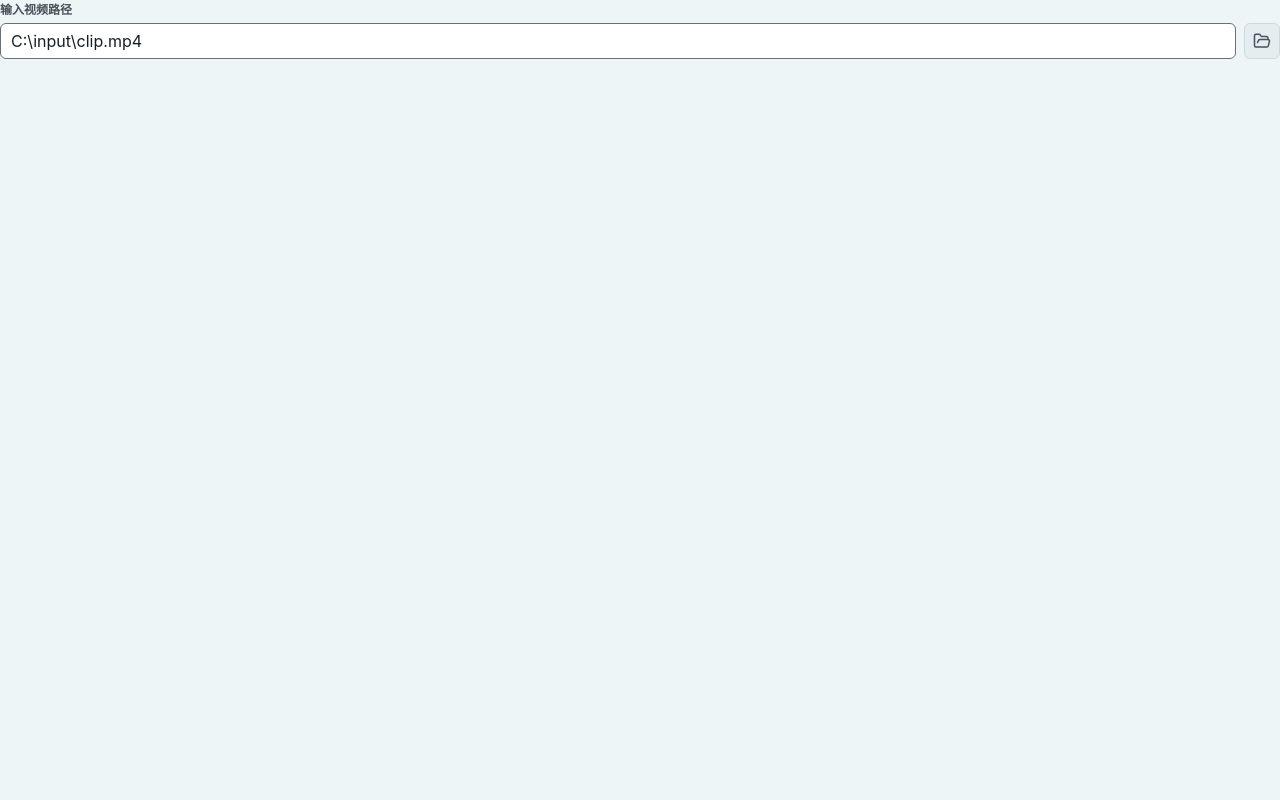
Scenario: PathInput › lets users specify a path through the folder icon editor
Click the button named "指定输入视频路径" at (1262, 41), box [1244, 23, 1279, 59]
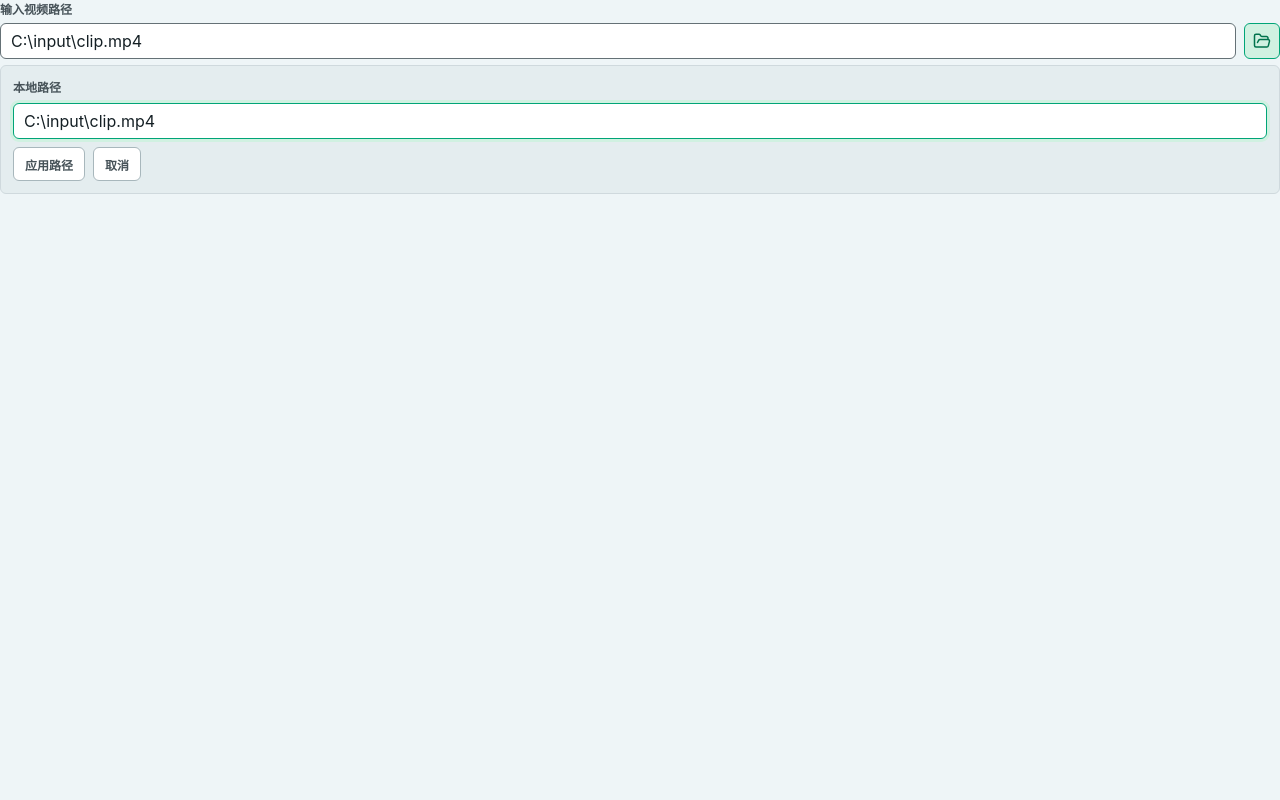
Replace the text in the field labelled "本地路径" with "D:\\batch\\clip-a.mp4" at (640, 121), box [13, 103, 1267, 139]
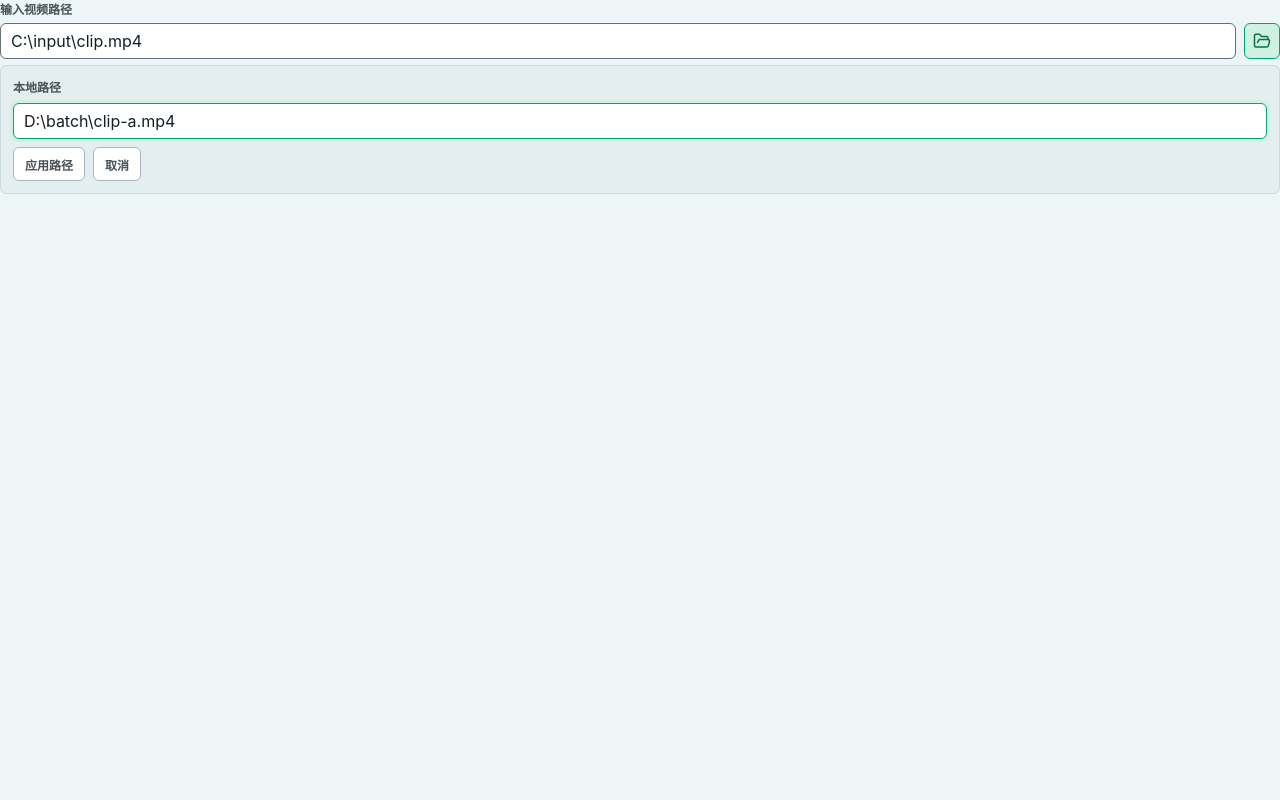
Click the button "应用路径" at (49, 164), box [13, 147, 85, 181]
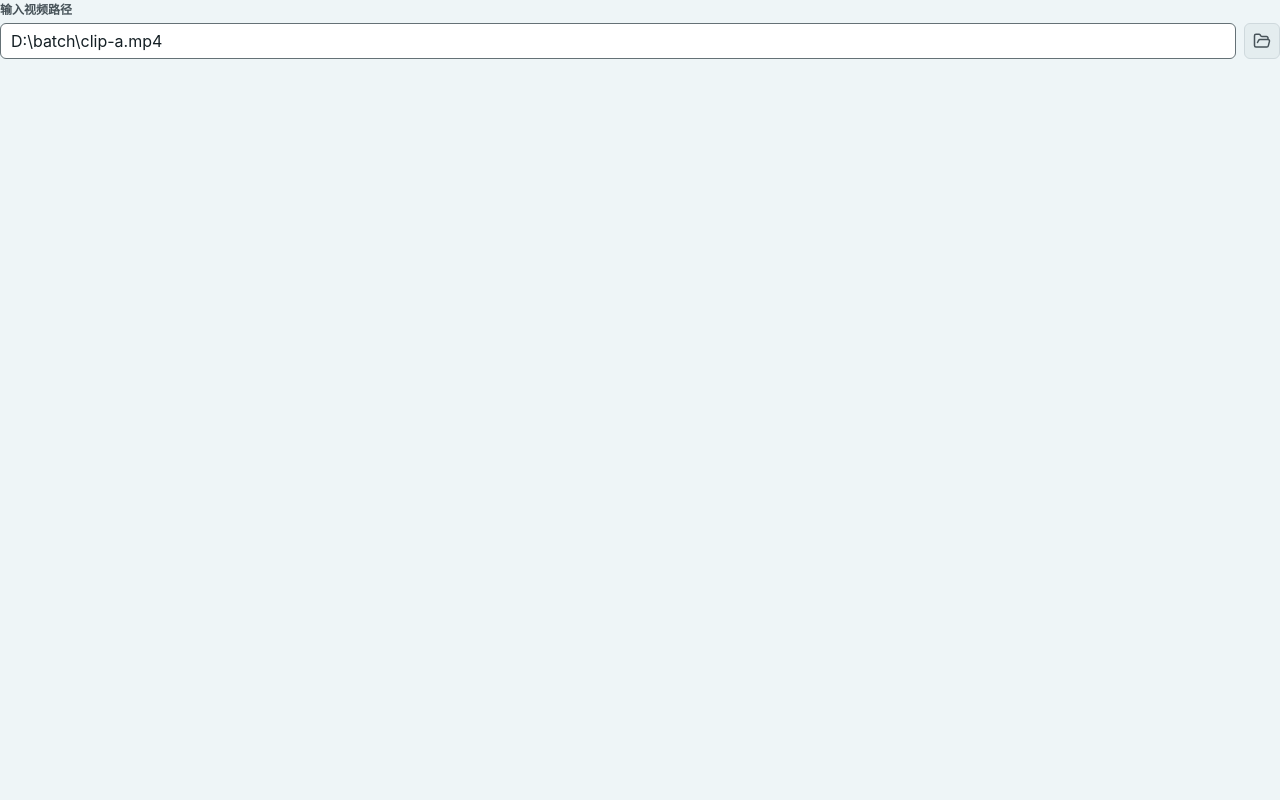
Result: the field labelled "输入视频路径" holds "D:\\batch\\clip-a.mp4" at [0, 23, 1236, 59]
Result: the dialog "本地路径 应用路径 取消" is gone
